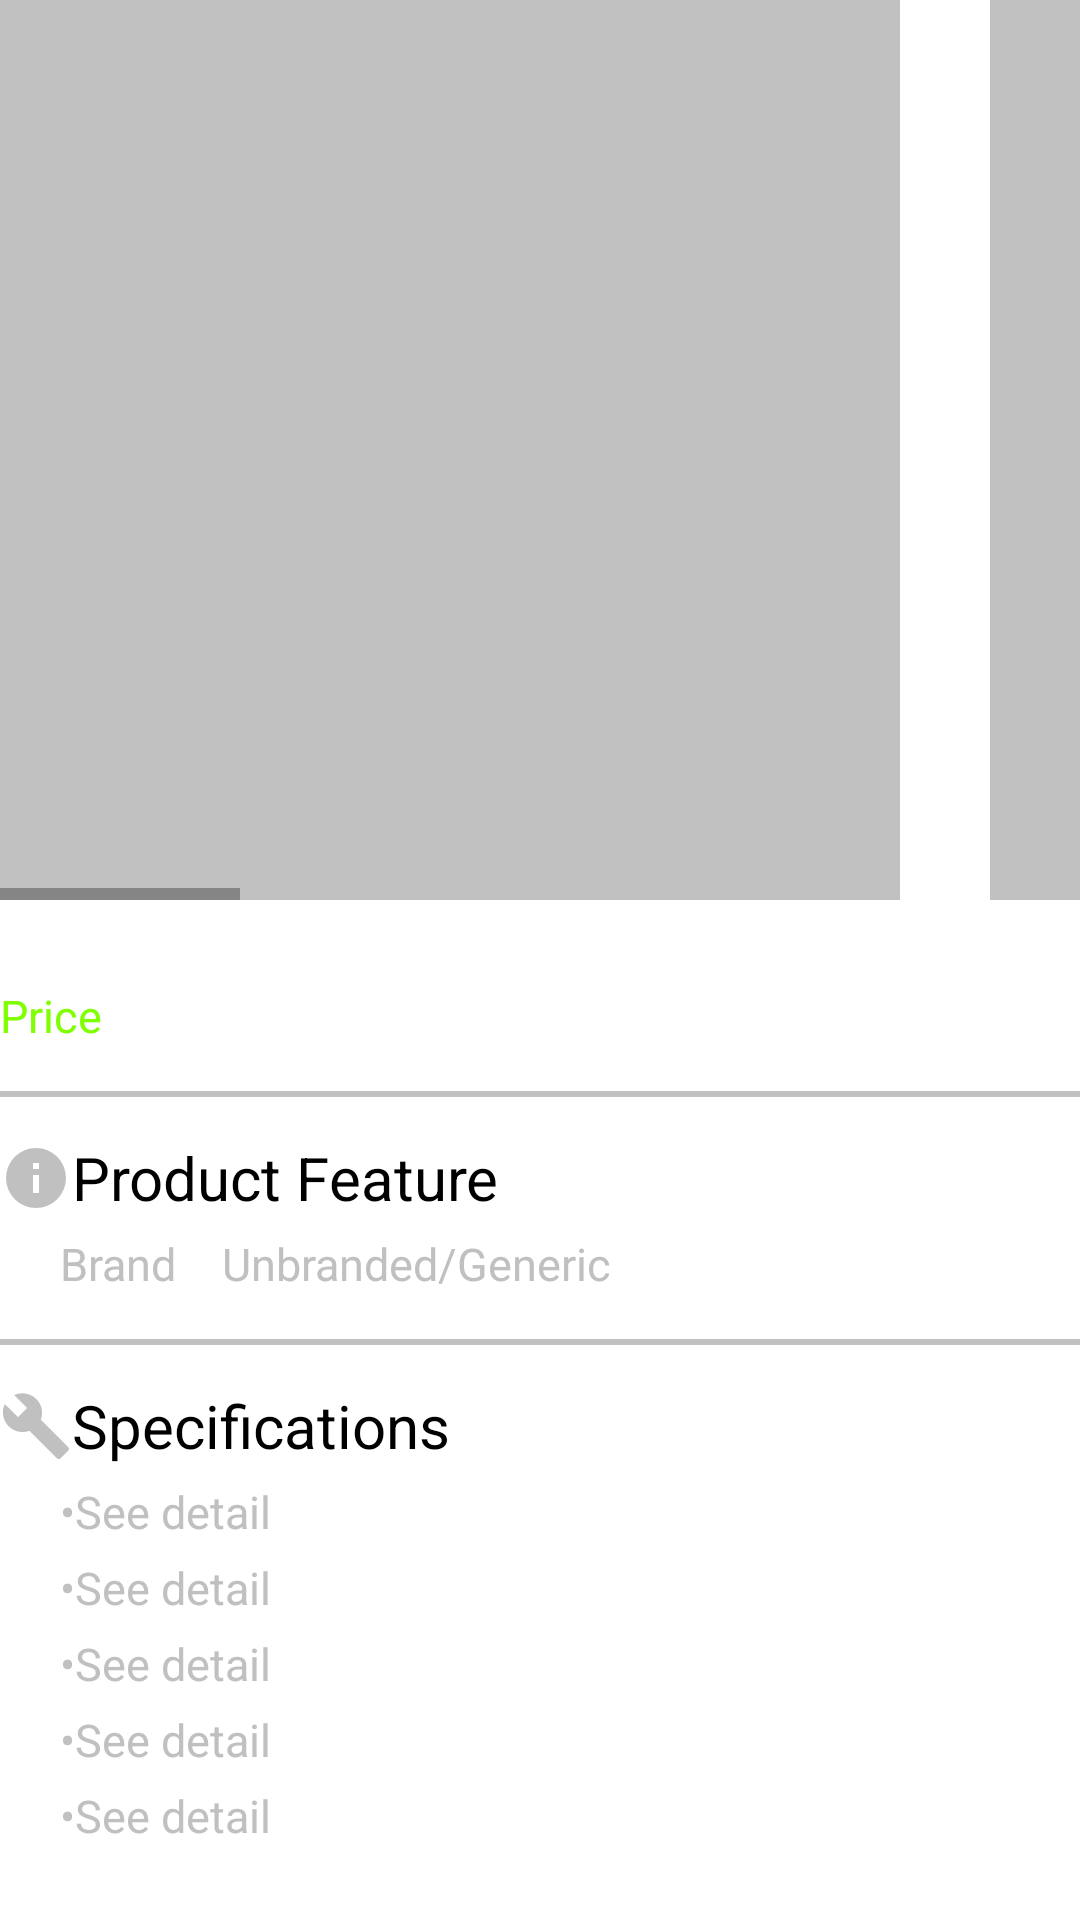

Icon bounding boxes for this 1080*1920 phone screenshot, format {"x1": x1, "y1": y1, "x2": x2, "y2": y2}:
information: {"x1": 6, "y1": 1148, "x2": 66, "y2": 1208}
wrench: {"x1": 3, "y1": 1393, "x2": 69, "y2": 1459}
